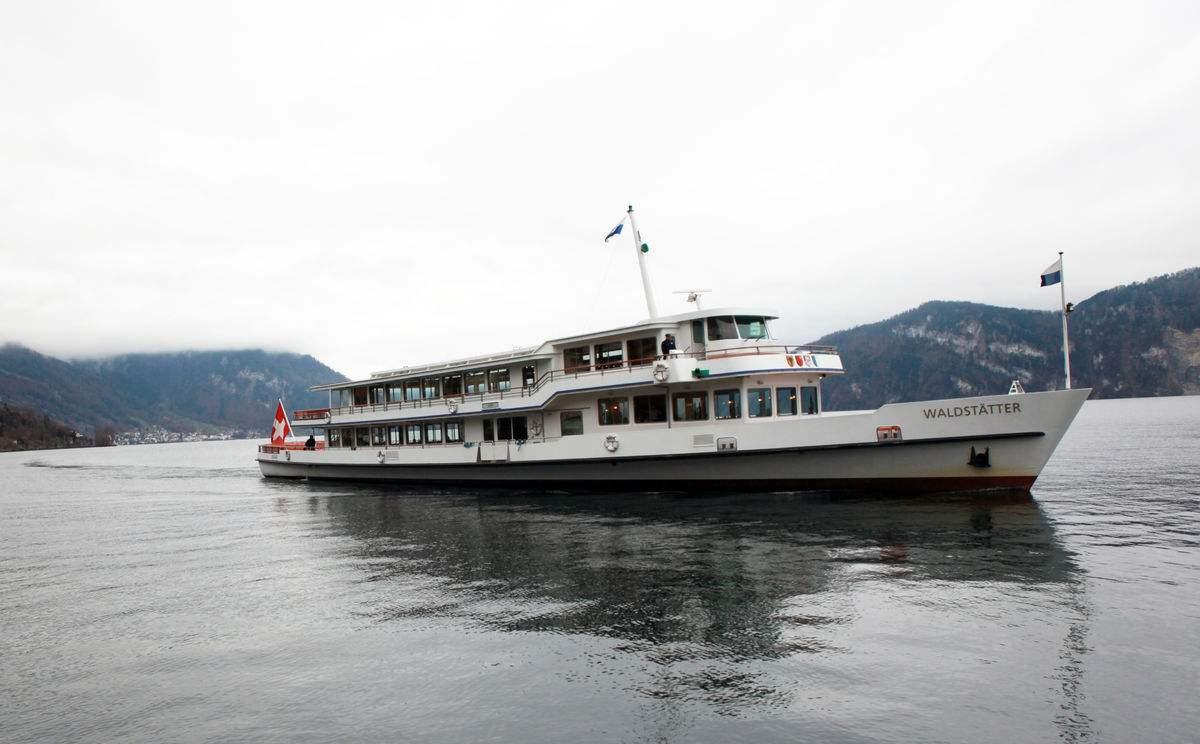youlun: (250, 207, 1109, 492)
